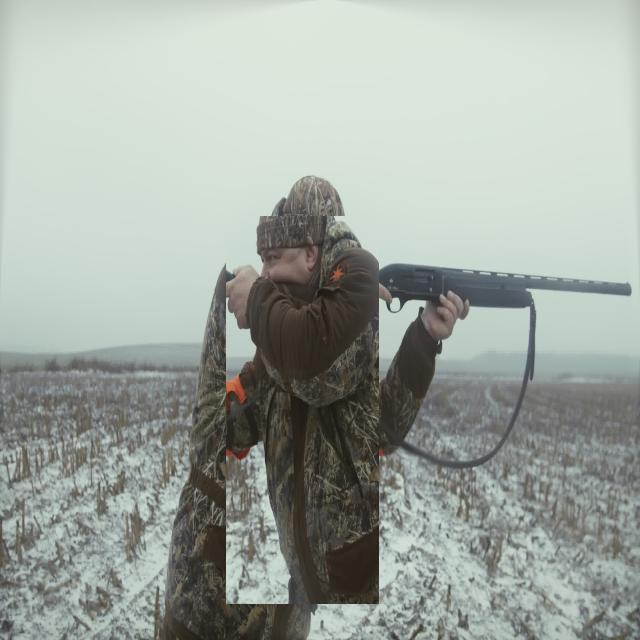poacher: (226, 216, 379, 604)
weapon: (306, 222, 457, 330)
